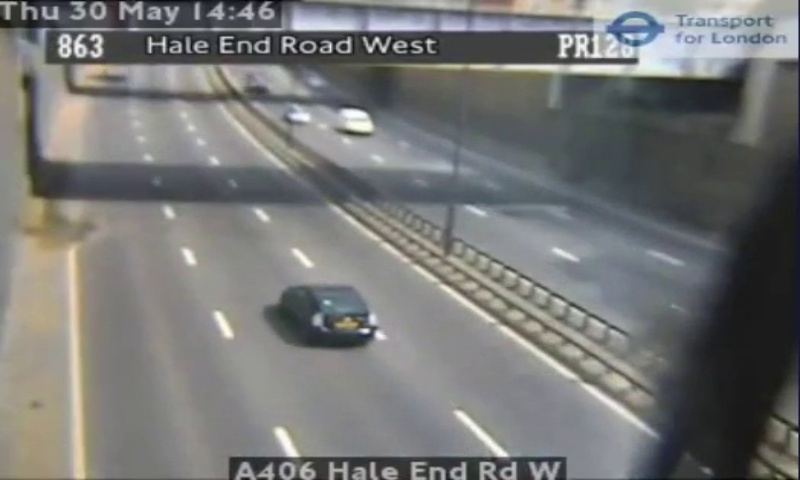car: (283, 285, 374, 342)
